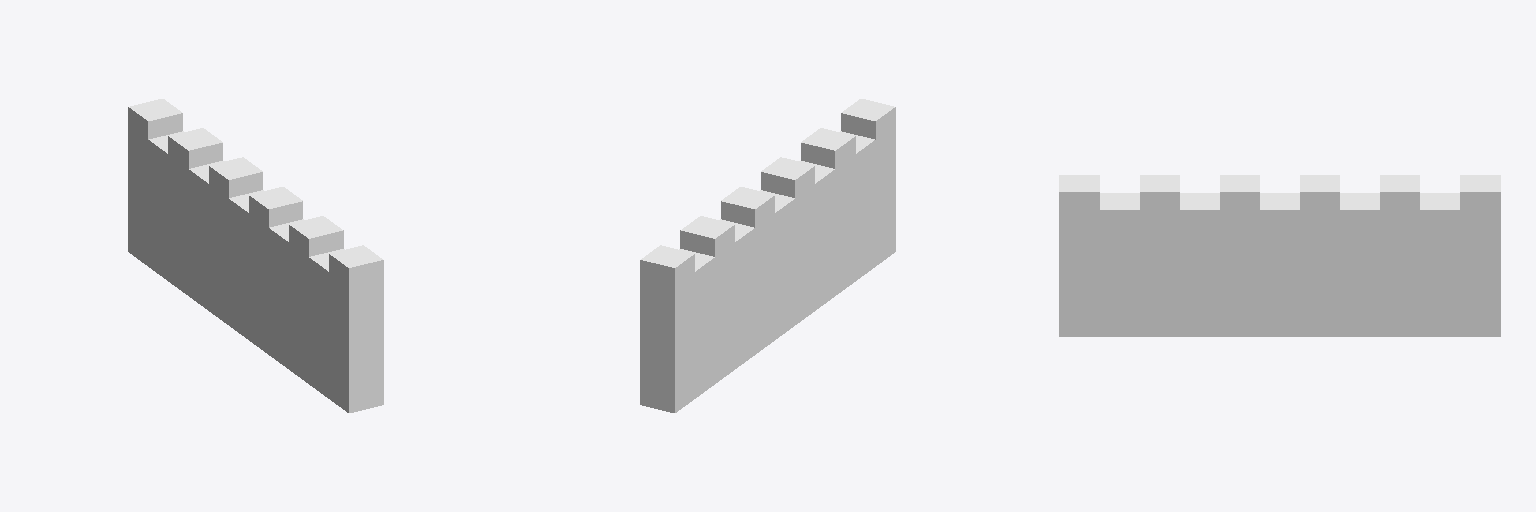
The model's file is Stena(90).obj.
3 views of the same model, side by side, from view 1: azimuth 30°, elevation 25°; view 2: azimuth 150°, elevation 25°; view 3: azimuth 270°, elevation 25° (orthographic).
Parts seen in each view (by area): view 1: object 1; view 2: object 1; view 3: object 1.
Boxes of the visible parts, box(x1,y1,x2,y2) form: object 1: box(128, 99, 383, 412); object 1: box(640, 99, 895, 412); object 1: box(1059, 175, 1500, 336).
Bounding box in the file's own units: 1.6 × 6.4 × 17.6.